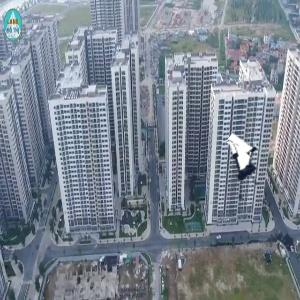drone: (211, 142, 277, 208)
